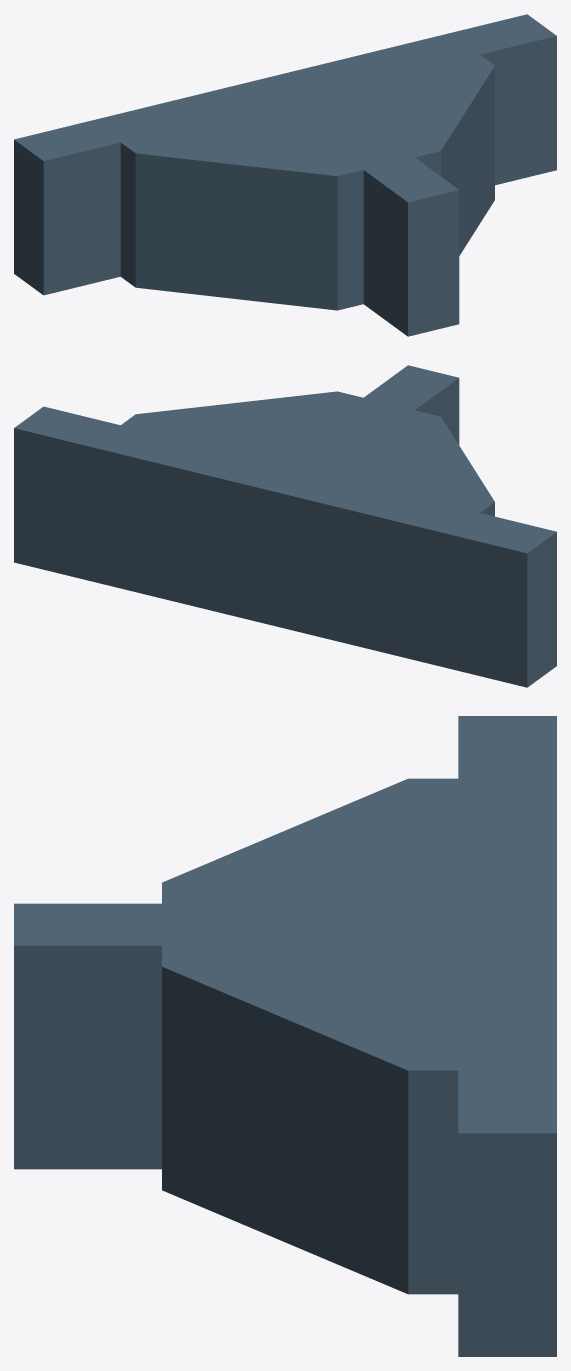
Rendered from W1_WallCorner_Angular2C_Top.fbx.
The picture shows the model from 3 angles, top to bottom: view 1: azimuth 30°, elevation 25°; view 2: azimuth 150°, elevation 25°; view 3: azimuth 270°, elevation 25°; orthographic projection. The views are drawn at different scales.
Parts seen in each view (by area): view 1: W1_WallCorner_Angular2C_Top.001; view 2: W1_WallCorner_Angular2C_Top.001; view 3: W1_WallCorner_Angular2C_Top.001.
Boxes of the visible parts, x1=… form: W1_WallCorner_Angular2C_Top.001: x1=14, y1=14, x2=556, y2=336; W1_WallCorner_Angular2C_Top.001: x1=14, y1=365, x2=556, y2=687; W1_WallCorner_Angular2C_Top.001: x1=14, y1=716, x2=556, y2=1356.
Bounding box in the file's own units: 2 × 0.5 × 1.1.
